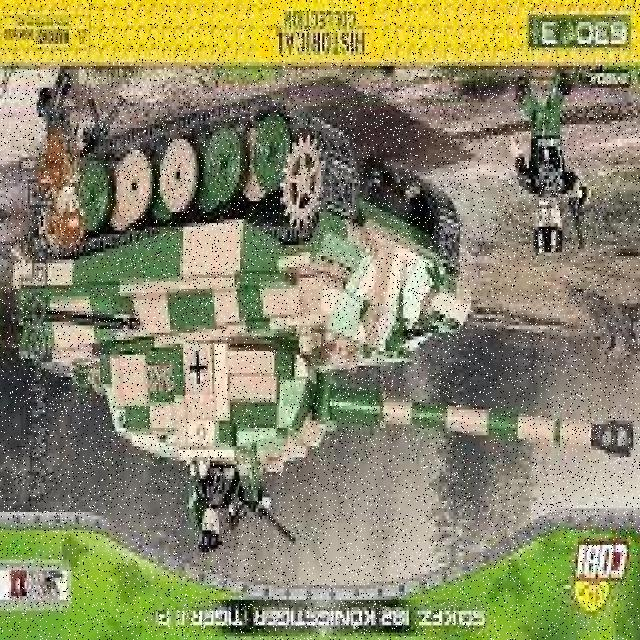MIL_MBT: (14, 97, 469, 481)
